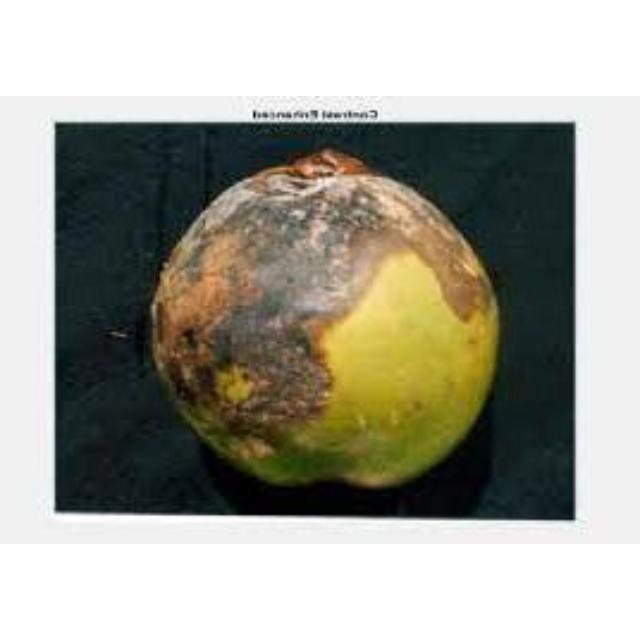damaged: (153, 149, 497, 485)
